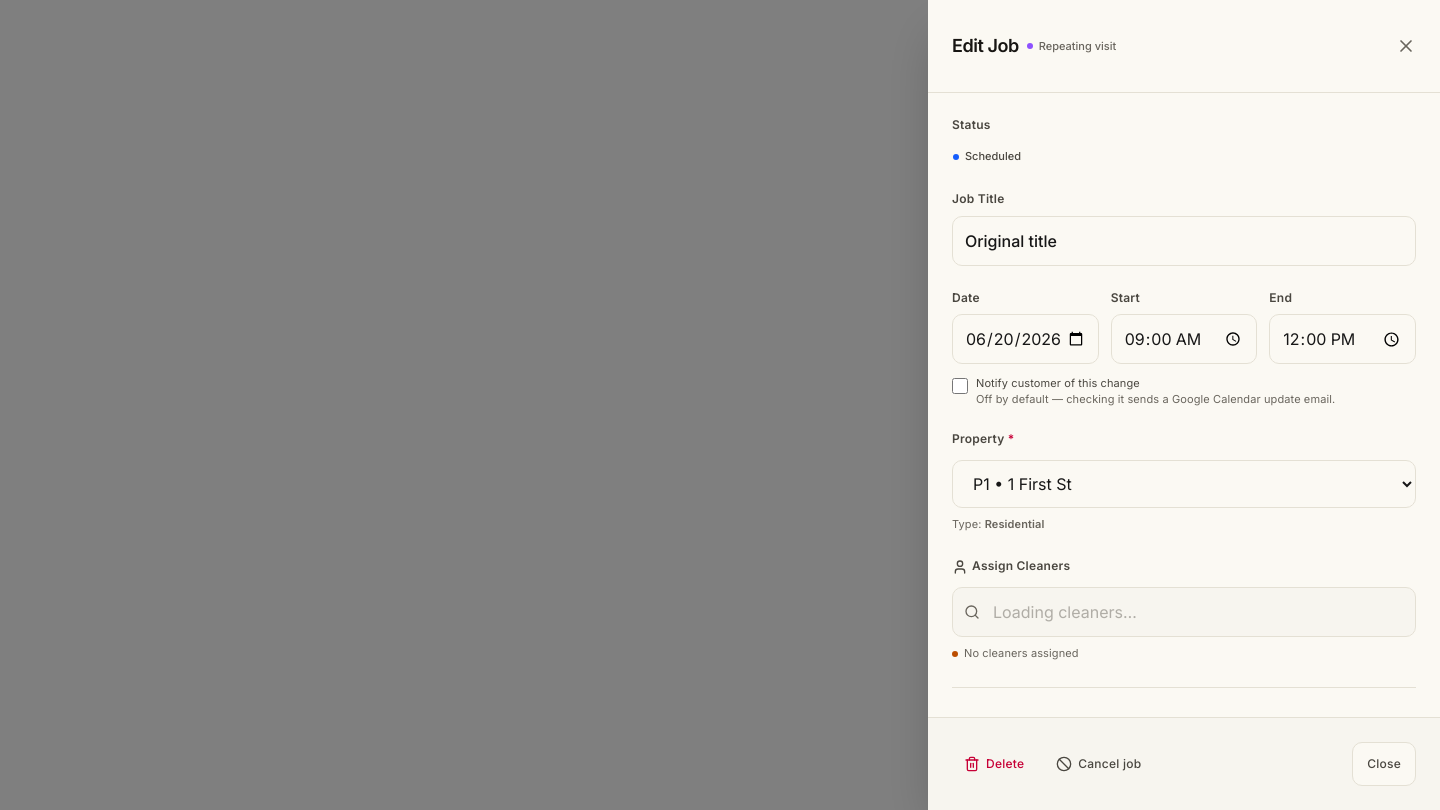
series fields still ask, and only carry what changed › names the changed field in the dialog
The image size is (1440, 810).
Replace the text in the field showing "Original title" with "Renamed" at (1184, 241), box [952,216,1416,266]
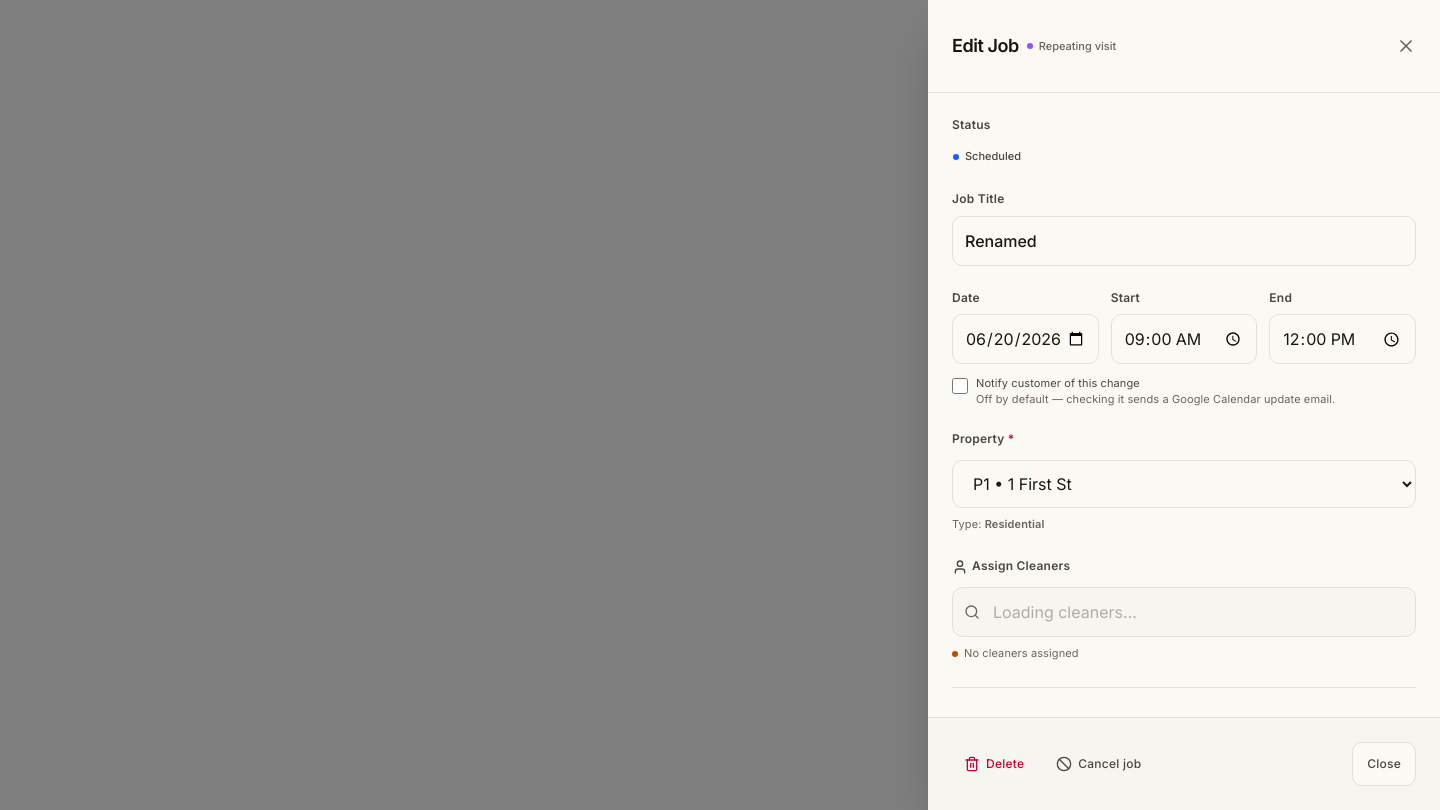
Leave the field showing "Original title", box [952,216,1416,266]
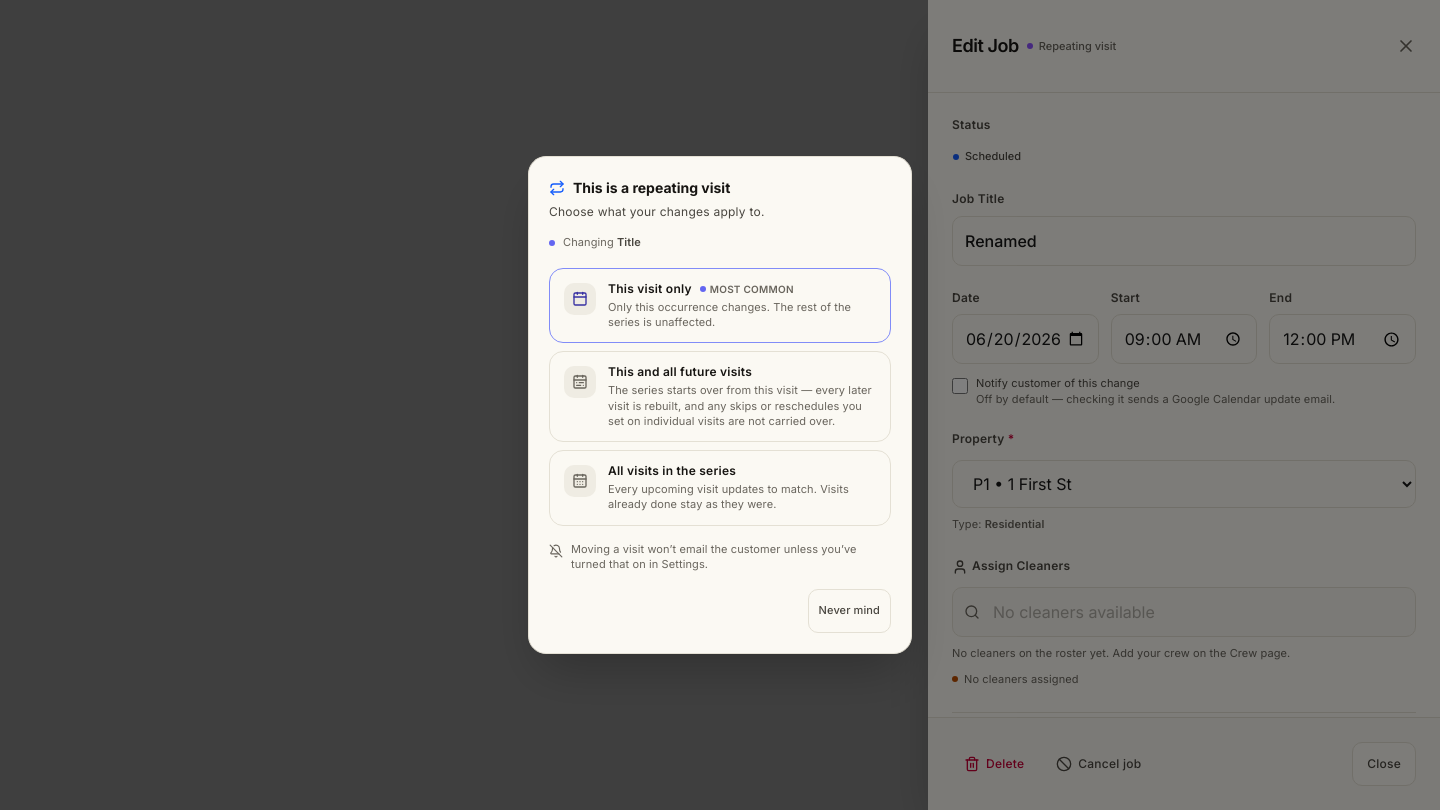
Expected: the heading "This is a repeating visit" is shown, [573,177,730,198]
Expected: the text "Title" is shown, [617,235,641,249]
